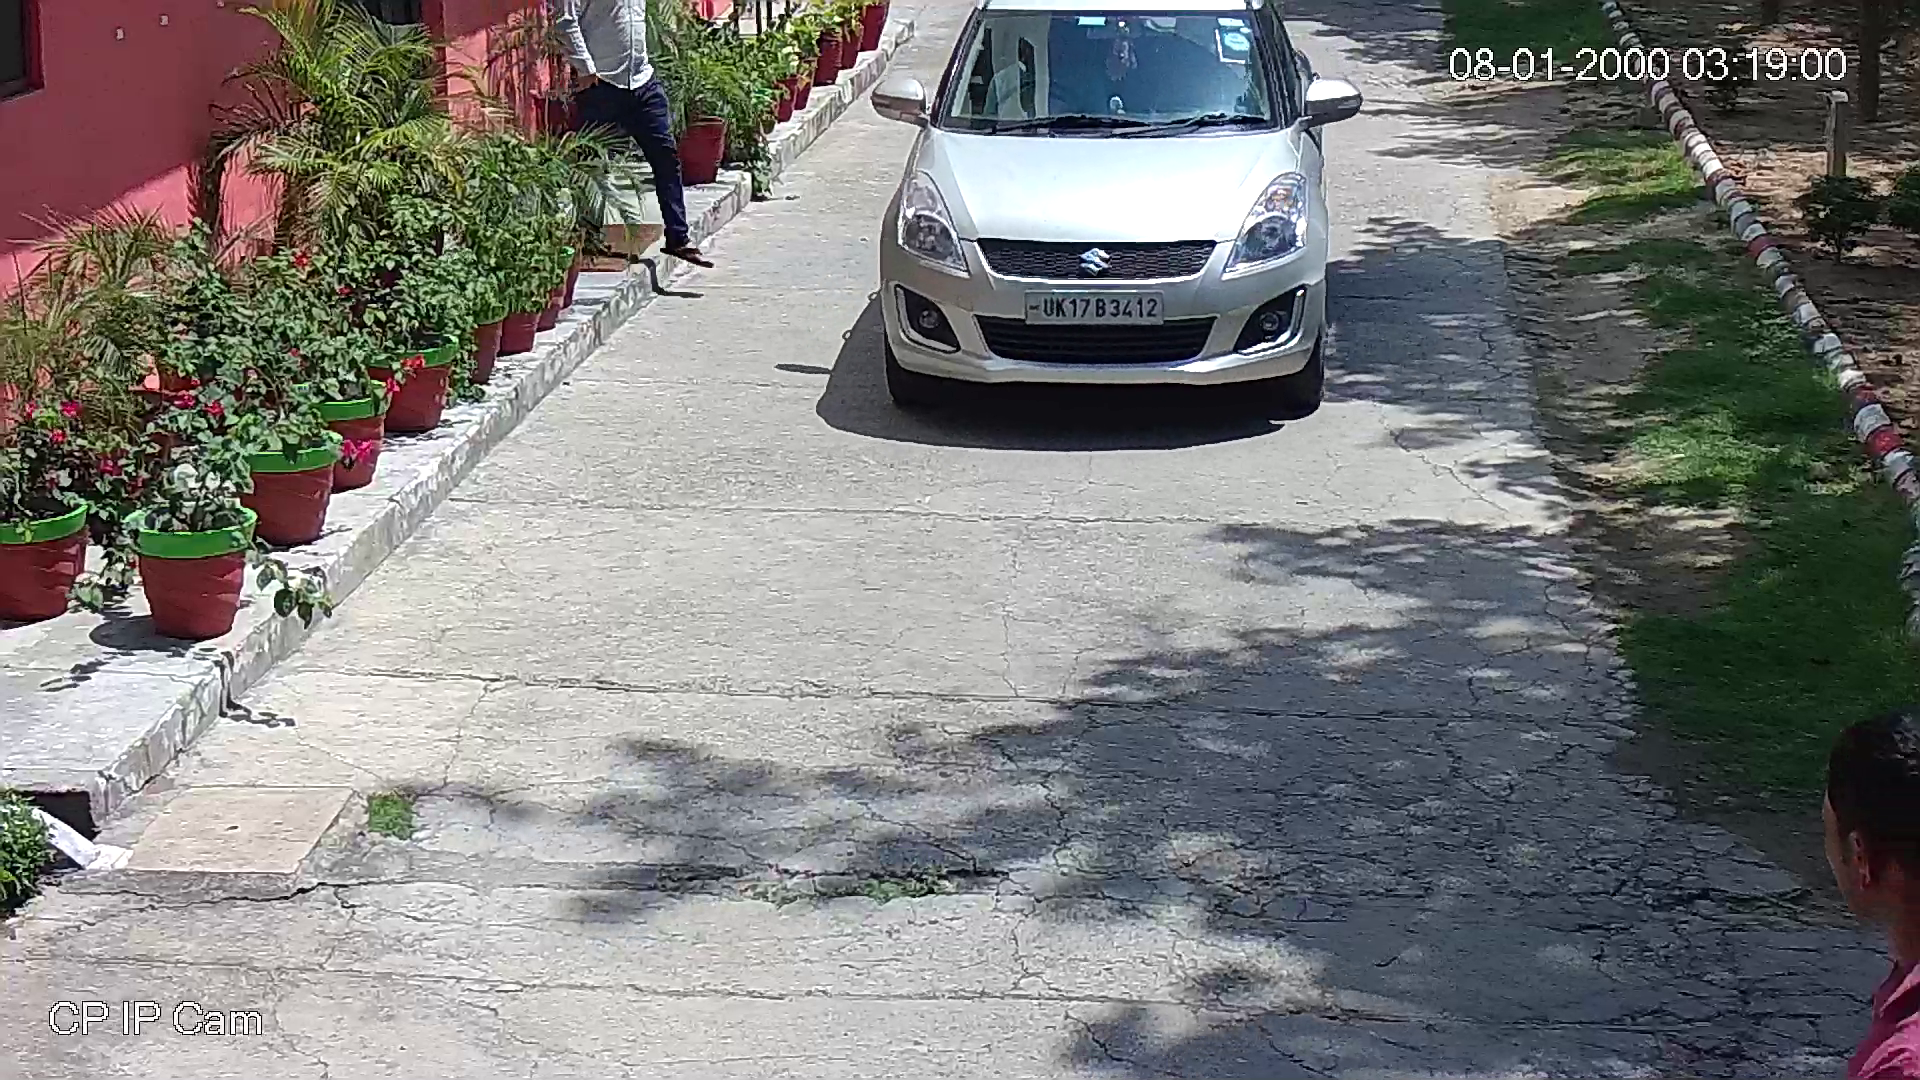plate: (1015, 284, 1170, 335)
